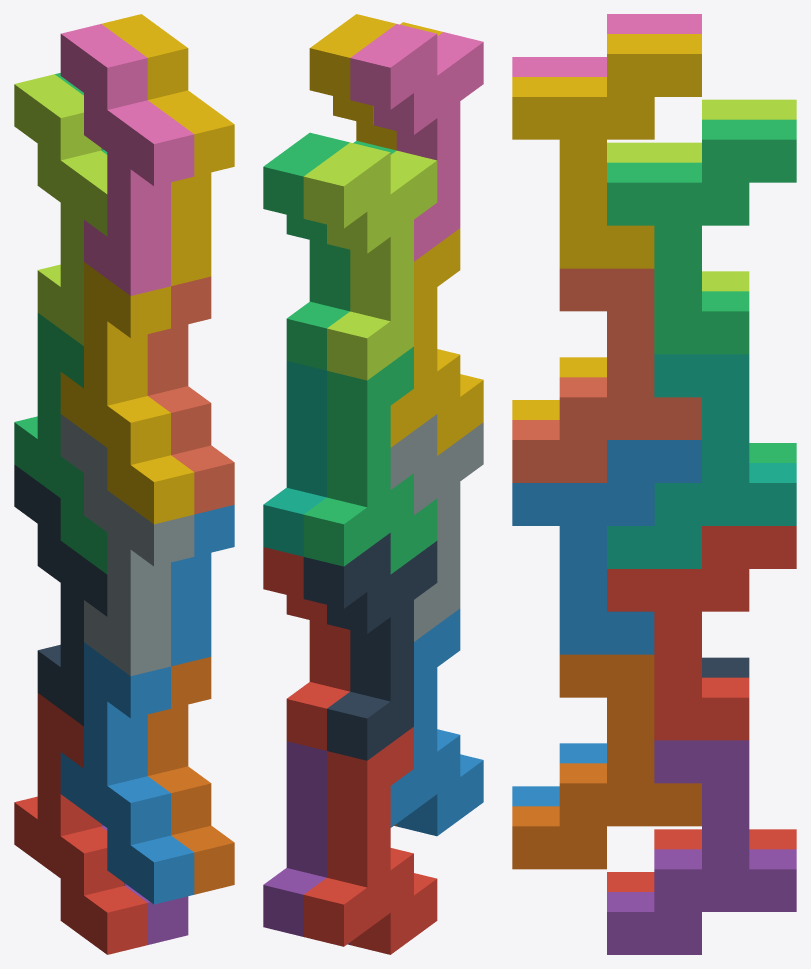
Rendered from tiling.obj.
The picture shows the model from 3 angles, left to right: view 1: azimuth 30°, elevation 25°; view 2: azimuth 150°, elevation 25°; view 3: azimuth 270°, elevation 25°; orthographic projection.
Parts seen in each view (by area): view 1: copy_2_domain_4, copy_1_domain_2, copy_1_domain_4, copy_2_domain_2, copy_1_domain_1, copy_2_domain_3, copy_2_domain_8, copy_1_domain_6, copy_1_domain_8, copy_1_domain_3, copy_2_domain_1, copy_2_domain_6 (+1 smaller); view 2: copy_2_domain_3, copy_1_domain_1, copy_2_domain_1, copy_1_domain_3, copy_2_domain_4, copy_1_domain_2, copy_2_domain_7, copy_1_domain_4, copy_2_domain_2, copy_1_domain_5, copy_1_domain_7, copy_2_domain_5 (+1 smaller); view 3: copy_2_domain_7, copy_2_domain_8, copy_1_domain_5, copy_1_domain_6, copy_1_domain_8, copy_2_domain_5, copy_1_domain_7, copy_2_domain_6, copy_2_domain_3, copy_2_domain_4, copy_1_domain_1, copy_1_domain_2 (+3 smaller).
Part boxes in pixels (bbox=[...]): copy_2_domain_4: bbox=[60, 24, 194, 295]; copy_1_domain_2: bbox=[60, 642, 194, 904]; copy_1_domain_4: bbox=[60, 262, 194, 524]; copy_2_domain_2: bbox=[60, 414, 194, 675]; copy_1_domain_1: bbox=[14, 693, 147, 954]; copy_2_domain_3: bbox=[14, 74, 107, 345]; copy_2_domain_8: bbox=[101, 14, 234, 286]; copy_1_domain_6: bbox=[147, 657, 234, 894]; copy_1_domain_8: bbox=[147, 276, 234, 514]; copy_1_domain_3: bbox=[14, 313, 107, 574]; copy_2_domain_1: bbox=[14, 464, 107, 726]; copy_2_domain_6: bbox=[171, 505, 234, 666]; copy_2_domain_3: bbox=[303, 142, 437, 380]; copy_1_domain_1: bbox=[303, 727, 437, 954]; copy_2_domain_1: bbox=[303, 532, 437, 760]; copy_1_domain_3: bbox=[303, 346, 437, 574]; copy_2_domain_4: bbox=[350, 24, 483, 261]; copy_1_domain_2: bbox=[390, 608, 483, 836]; copy_2_domain_7: bbox=[263, 132, 396, 370]; copy_1_domain_4: bbox=[390, 228, 483, 455]; copy_2_domain_2: bbox=[390, 414, 483, 641]; copy_1_domain_5: bbox=[263, 741, 350, 944]; copy_1_domain_7: bbox=[263, 361, 326, 556]; copy_2_domain_5: bbox=[263, 547, 350, 750]; copy_2_domain_7: bbox=[607, 119, 796, 354]; copy_2_domain_8: bbox=[512, 34, 701, 268]; copy_1_domain_5: bbox=[607, 740, 796, 954]; copy_1_domain_6: bbox=[512, 654, 701, 869]; copy_1_domain_8: bbox=[512, 268, 701, 482]; copy_2_domain_5: bbox=[607, 526, 796, 740]; copy_1_domain_7: bbox=[607, 354, 796, 568]; copy_2_domain_6: bbox=[512, 440, 701, 654]; copy_2_domain_3: bbox=[607, 99, 796, 291]; copy_2_domain_4: bbox=[512, 14, 701, 76]; copy_1_domain_1: bbox=[607, 829, 796, 891]; copy_1_domain_2: bbox=[512, 743, 606, 806].
Size of the model in its own units: 2 by 21 by 6.
